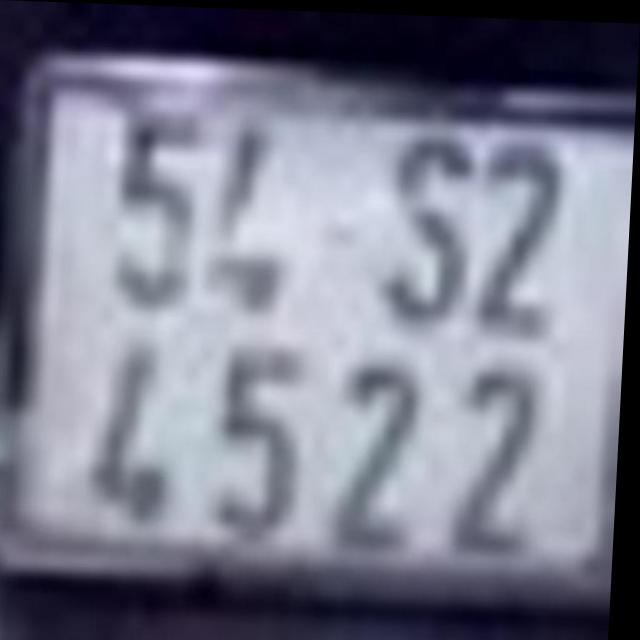2: (342, 354, 433, 552), (464, 357, 552, 555), (477, 130, 565, 320)
4: (210, 109, 300, 315), (99, 333, 177, 519)
5: (114, 102, 208, 306), (218, 337, 310, 534)
S: (383, 128, 476, 315)
